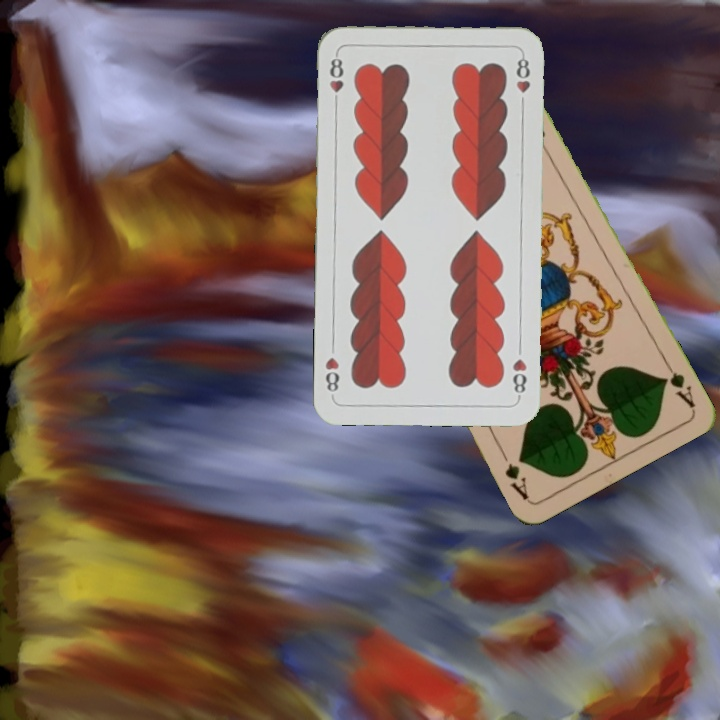GA: (658, 357, 698, 411)
H8: (326, 50, 346, 109), (508, 354, 529, 400)
